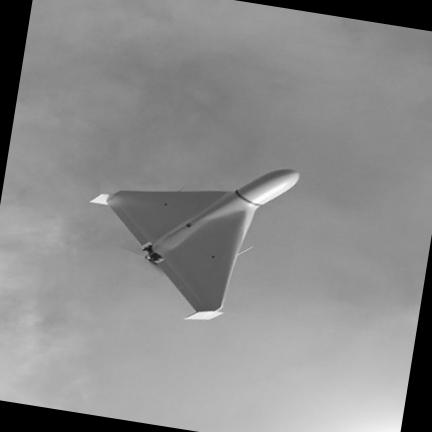Shahed: (90, 169, 298, 320)
